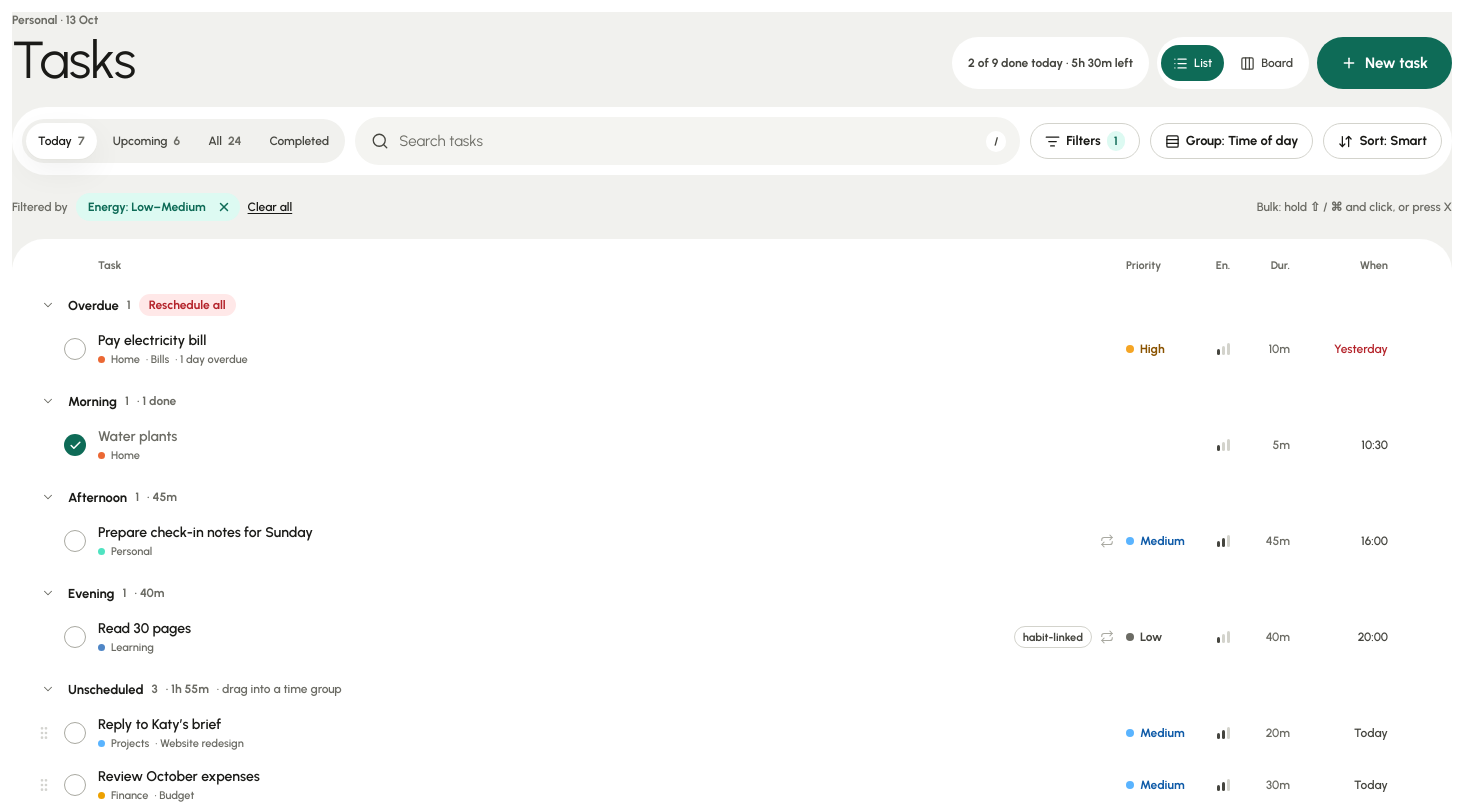
TasksScreen › shows active filters as removable chips; Clear all removes them
expect the text "Energy: Low–Medium" is shown: met, box left=88, top=199, right=206, bottom=215
Click the button "Clear all" at (270, 207), box left=248, top=199, right=292, bottom=215
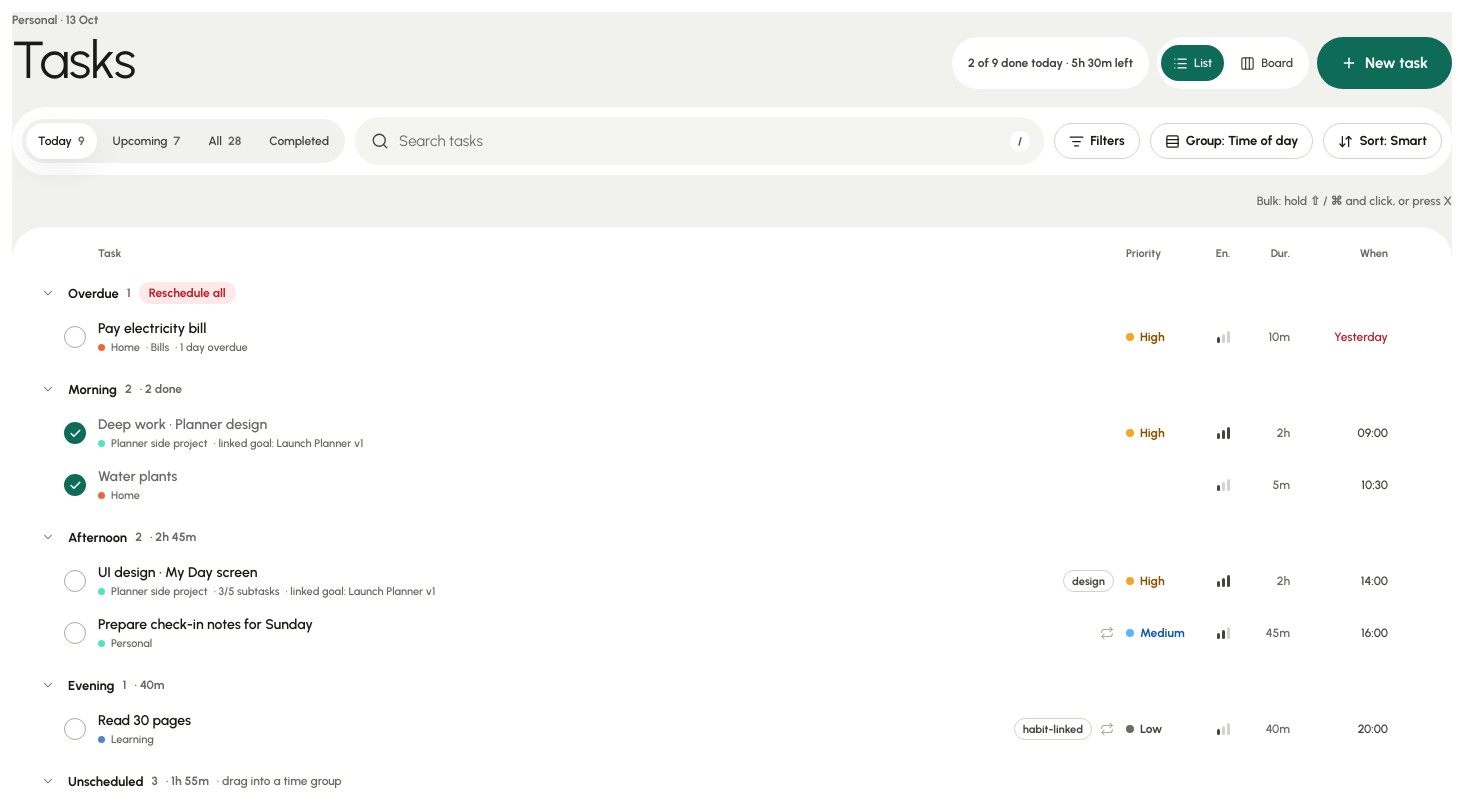
expect the text "Energy: Low–Medium" is gone: met
